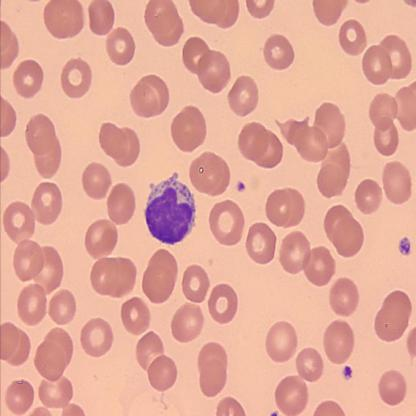Lymphocyte: (144, 172, 196, 246)
